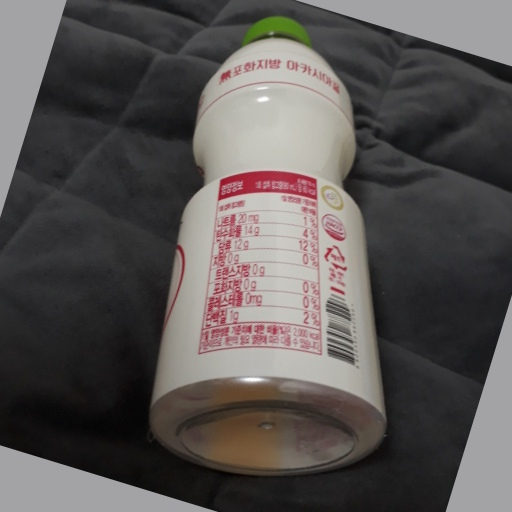Plastic_0: (153, 15, 390, 475)
